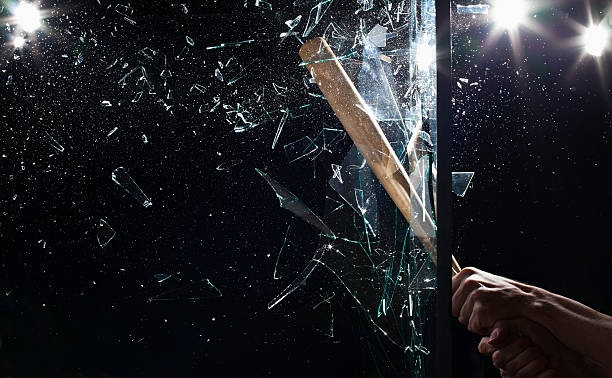bita: (304, 33, 452, 256)
